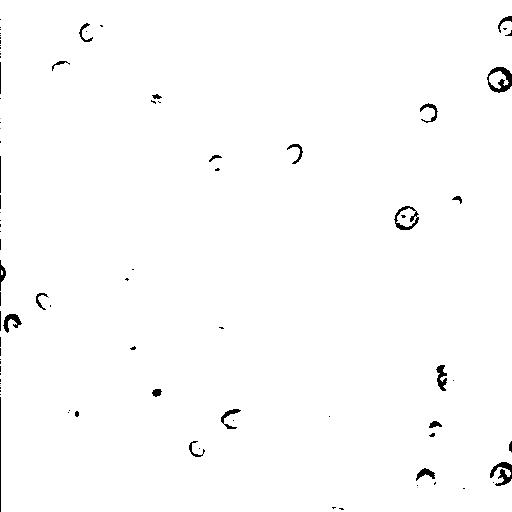micro-algae: (379, 18, 419, 59), (385, 254, 425, 293), (310, 48, 345, 83), (99, 401, 132, 436), (1, 249, 21, 298), (1, 301, 28, 337), (425, 348, 455, 380), (89, 11, 117, 40), (141, 377, 170, 405), (484, 65, 512, 93), (393, 204, 421, 231), (414, 466, 439, 494), (219, 407, 247, 432), (199, 153, 225, 179), (489, 459, 511, 487), (281, 142, 304, 165), (417, 101, 439, 125), (68, 405, 89, 429), (48, 58, 73, 78), (123, 337, 145, 359), (437, 369, 458, 392), (2, 313, 23, 335), (495, 13, 511, 39), (119, 263, 139, 283), (77, 22, 96, 43), (35, 291, 53, 311), (189, 438, 206, 457), (426, 419, 443, 437), (448, 195, 463, 209), (1, 263, 8, 283)
